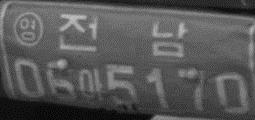0: (214, 71, 250, 115), (14, 58, 45, 98)
1: (143, 65, 172, 111)
5: (104, 62, 140, 107)
6: (46, 61, 76, 100)
7: (175, 67, 206, 111)
아: (77, 67, 104, 103)
영: (12, 11, 43, 46)
전남_D: (58, 13, 187, 57)
